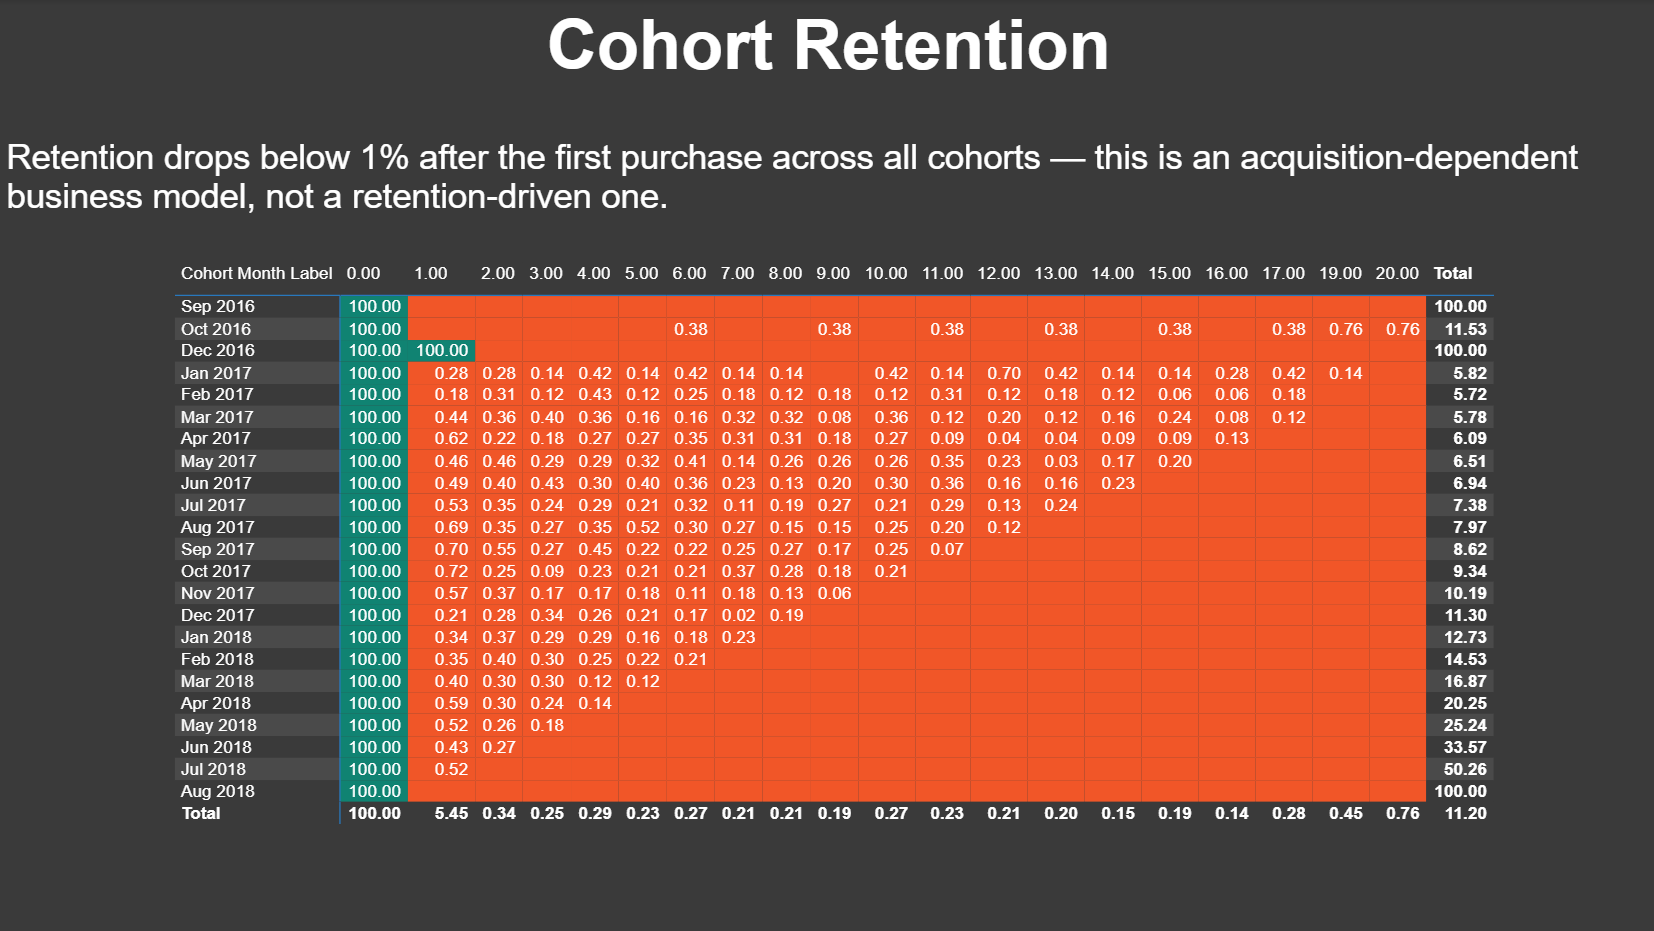

The page's visual inventory and layout, read from the dashboard file:
{"tool":"powerbi","page":{"name":"Page 5","canvas":[1280,720],"ordinal":4},"visuals":[{"type":"textbox","box":[0,102,1280.4,108.9],"z":2000},{"type":"textbox","box":[0,0,1280.3,101.6],"z":3000},{"type":"pivotTable","fields":{"Rows":["cohort_retention.Cohort Month Label"],"Columns":["cohort_retention.cohort_period"],"Values":["Avg(cohort_retention.retention_rate_pct)"]},"box":[129.8,198.1,1142.5,473.9],"z":3001}]}

Visuals, with their boxes in screenshot pixels (x1, y1, x2, y2), scaled from the page's 1280x720 canvas onto the 1654x931 screenshot:
textbox: (0, 132, 1653, 273)
textbox: (0, 0, 1653, 131)
pivotTable - cohort_retention.Cohort Month Label x cohort_retention.cohort_period: (168, 256, 1644, 869)
